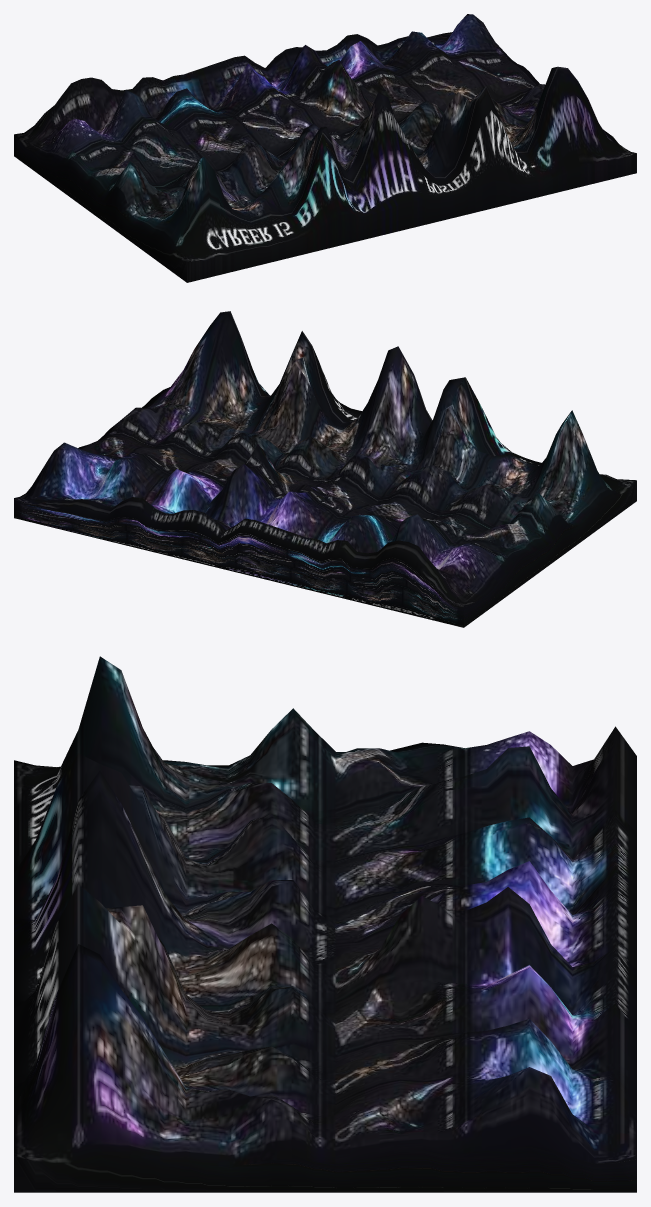
Rendered from CAREER_15_Poster_21.glb.
3 views of the same model, one above another, from view 1: azimuth 30°, elevation 25°; view 2: azimuth 150°, elevation 25°; view 3: azimuth 270°, elevation 25° (orthographic). The views are drawn at different scales.
Parts seen in each view (by area): view 1: CAREER_15_Poster_21; view 2: CAREER_15_Poster_21; view 3: CAREER_15_Poster_21.
Boxes of the visible parts, x1,y1,x2,y2 form: CAREER_15_Poster_21: (14,14,636,282); CAREER_15_Poster_21: (14,311,636,627); CAREER_15_Poster_21: (14,656,636,1192).
Size of the model in its own units: 2 by 0.51 by 1.33.
1 material, 1 textured.
